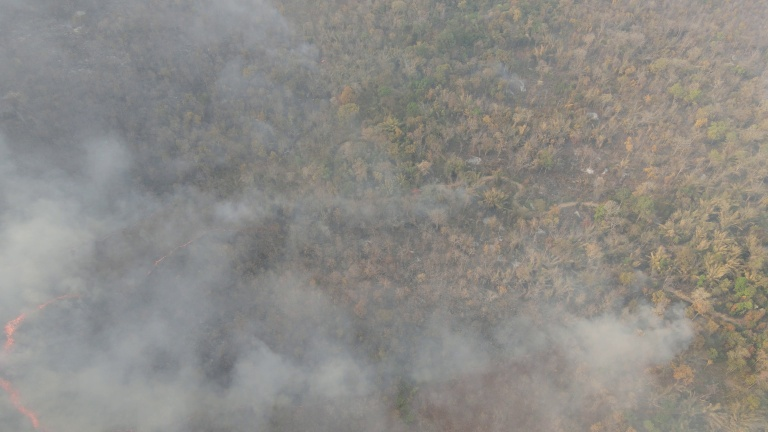fire: (1, 288, 79, 432), (147, 230, 210, 278)
smoke: (1, 178, 228, 432), (570, 306, 683, 394)
